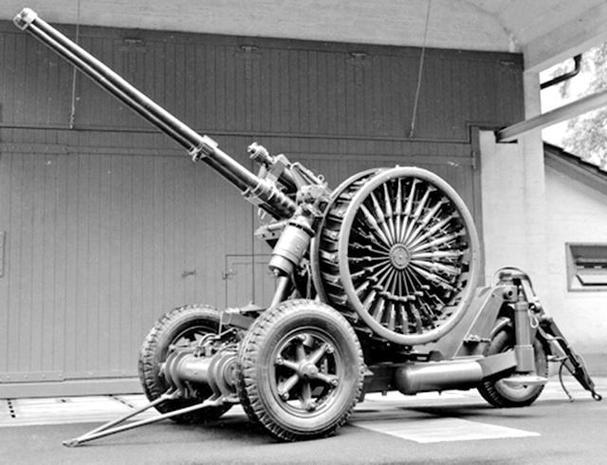MIL_SPG: (14, 8, 598, 444)
